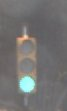Green: (12, 24, 36, 96)
